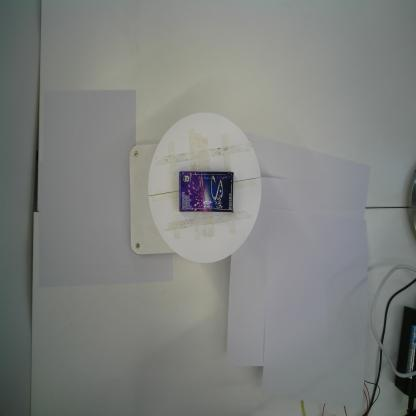Gum: (179, 170, 234, 214)
